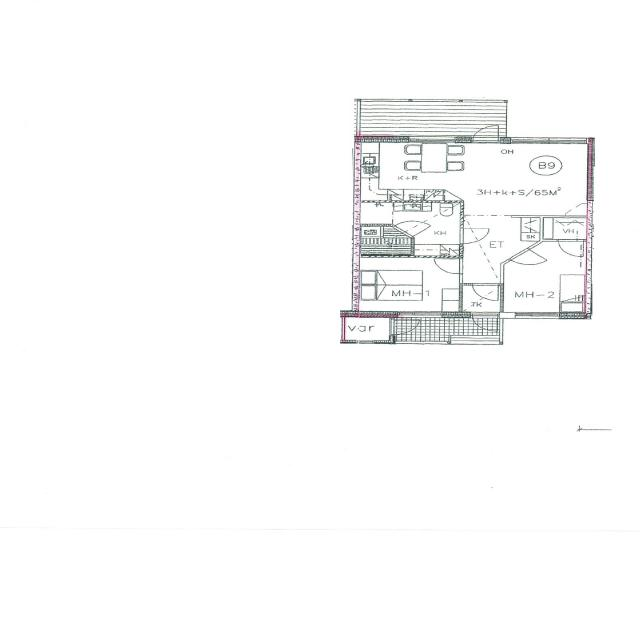door: (392, 215, 430, 238), (509, 249, 546, 271), (472, 122, 498, 143), (472, 312, 498, 333), (472, 283, 498, 301), (436, 258, 464, 274), (460, 228, 488, 244), (389, 320, 420, 334), (559, 239, 583, 256)
